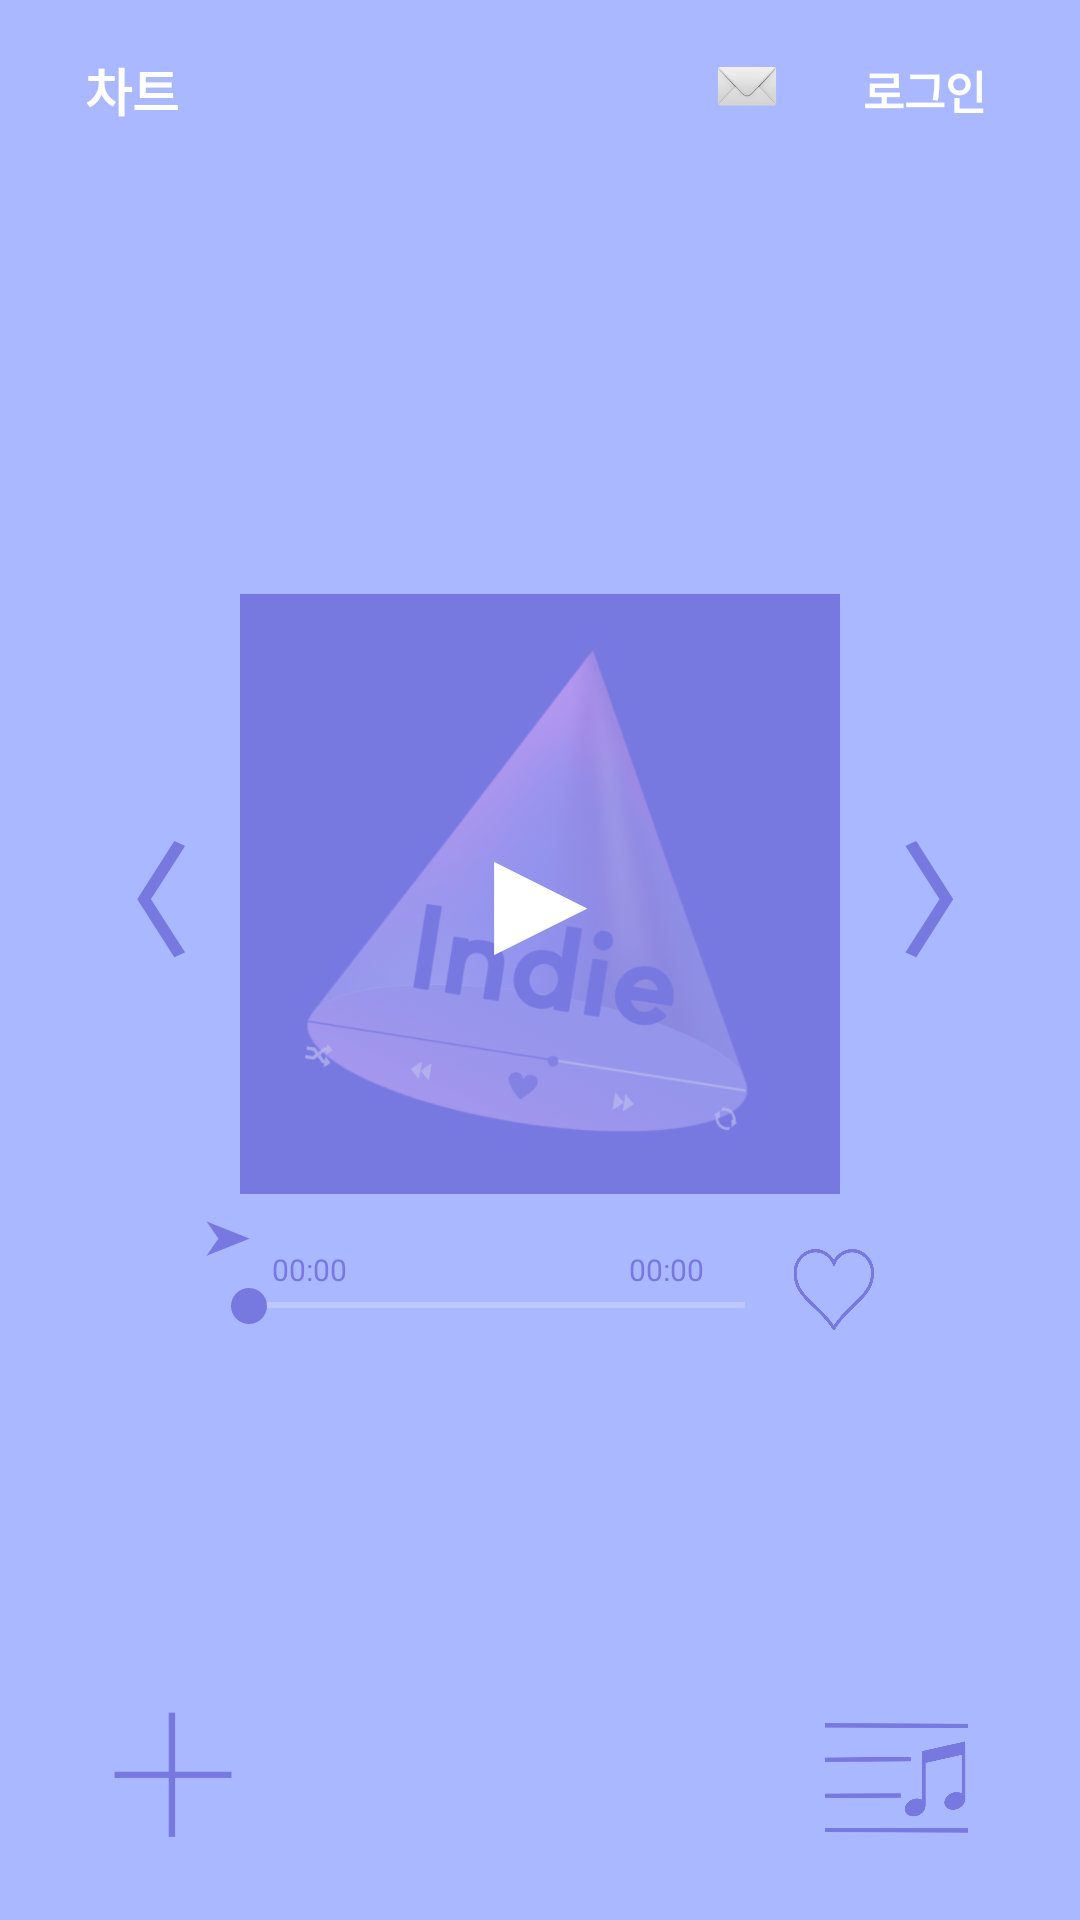

Named icons in this screenshot (1080px x 1920px) and their centers, [x,y]:
empty heart: [834,1289]
playlist: [896,1778]
